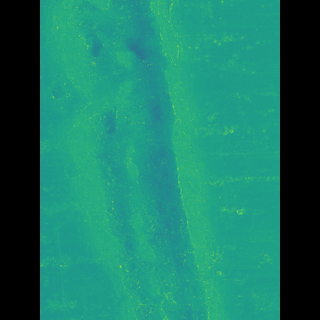Loch: (75, 0, 209, 320)
